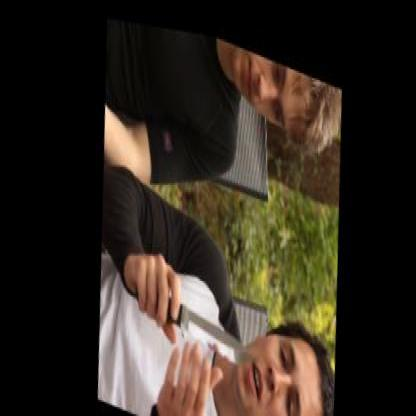knife: (127, 236, 268, 377)
